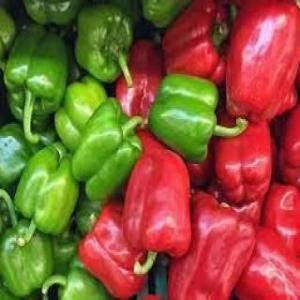bell_pepper: (169, 186, 256, 300), (145, 72, 249, 163), (1, 24, 71, 144), (68, 99, 148, 203), (130, 143, 192, 275), (8, 146, 82, 254), (72, 4, 138, 90)
